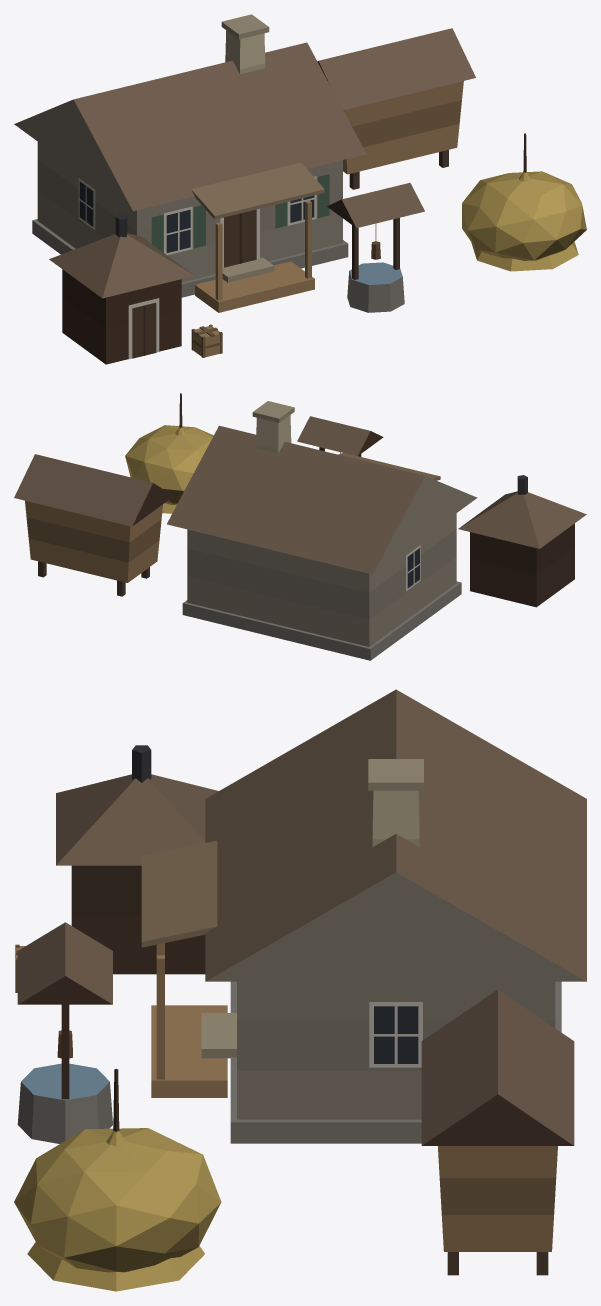
Rendered from farmstead.glb.
The picture shows the model from 3 angles, top to bottom: view 1: azimuth 30°, elevation 25°; view 2: azimuth 150°, elevation 25°; view 3: azimuth 270°, elevation 25°; orthographic projection. The views are drawn at different scales.
Parts seen in each view (by area): view 1: farmstead; view 2: farmstead; view 3: farmstead.
Boxes of the visible parts, box(x1,y1,x2,y2) form: farmstead: box(14, 14, 586, 364); farmstead: box(14, 393, 586, 660); farmstead: box(14, 689, 586, 1291).
Size of the model in its own units: 14.49 by 5.86 by 9.01.
